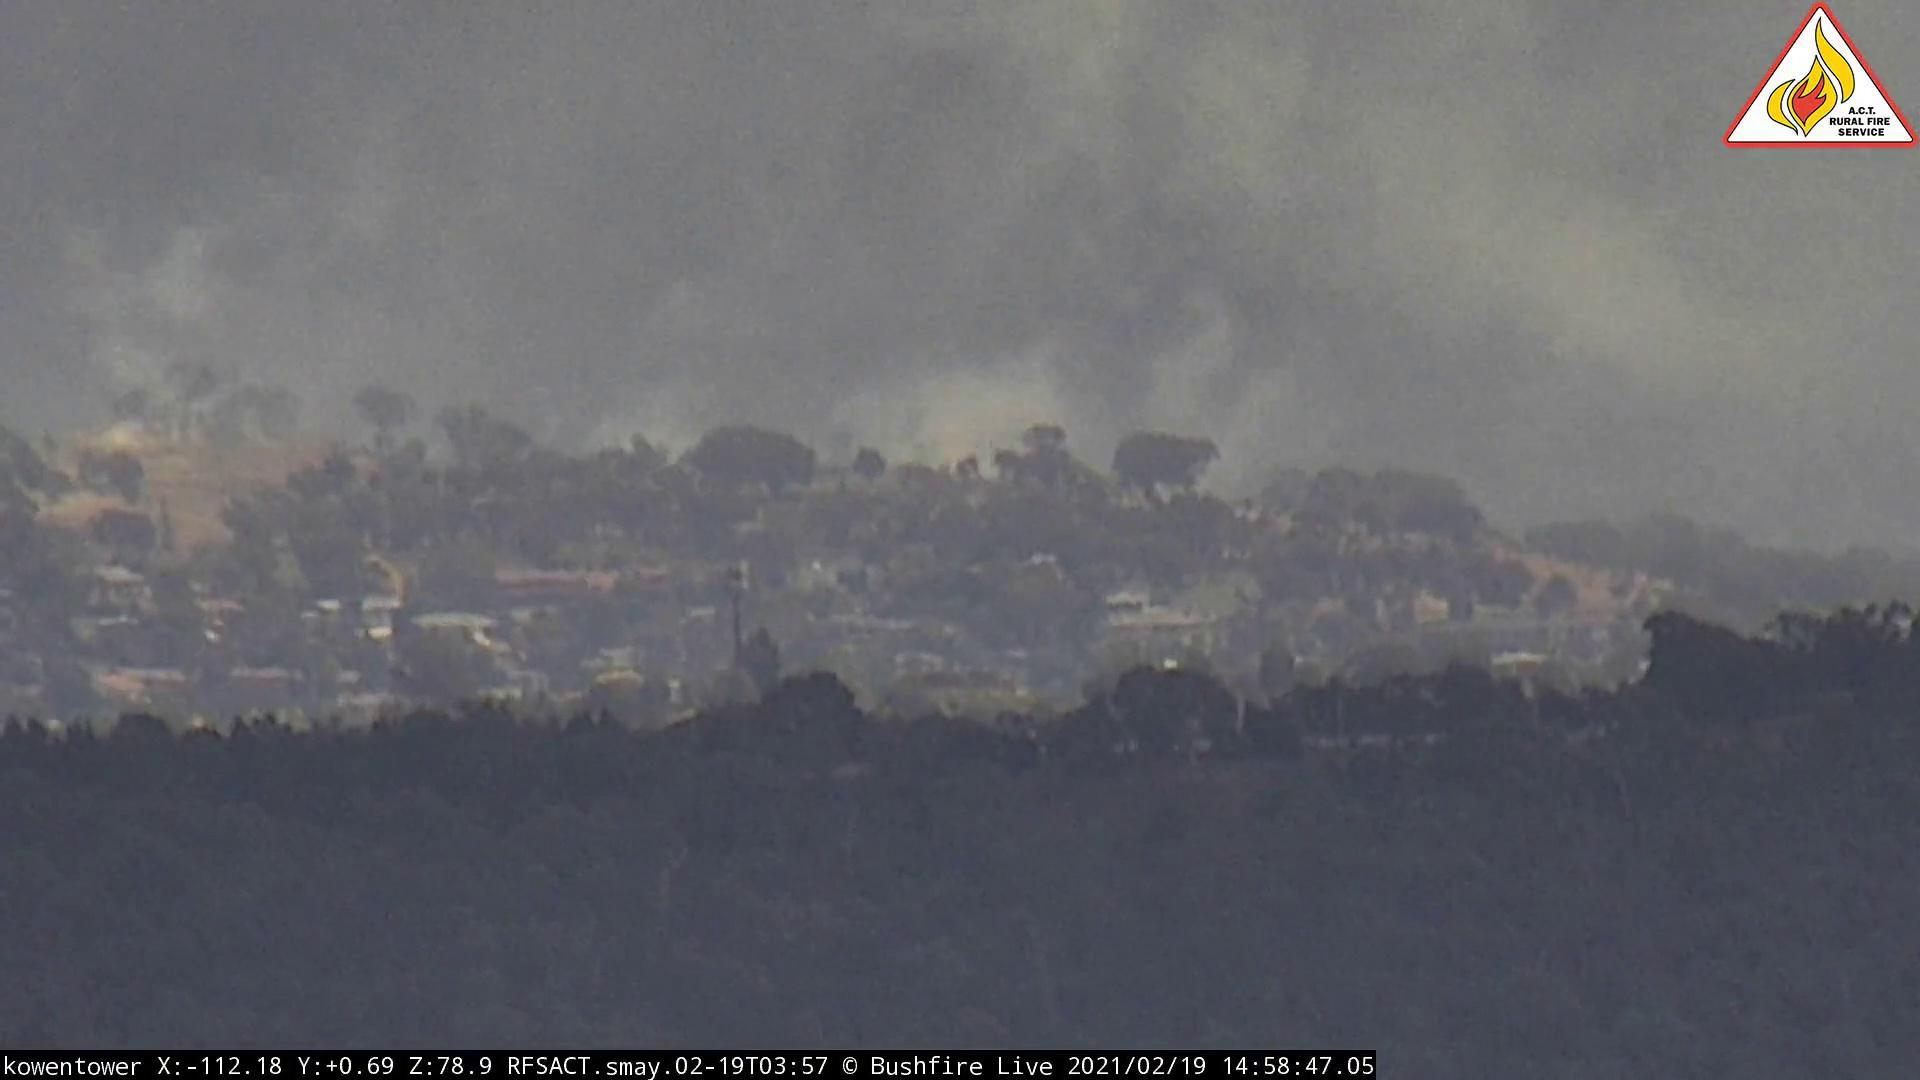Smoke: (3, 18, 1458, 517)
